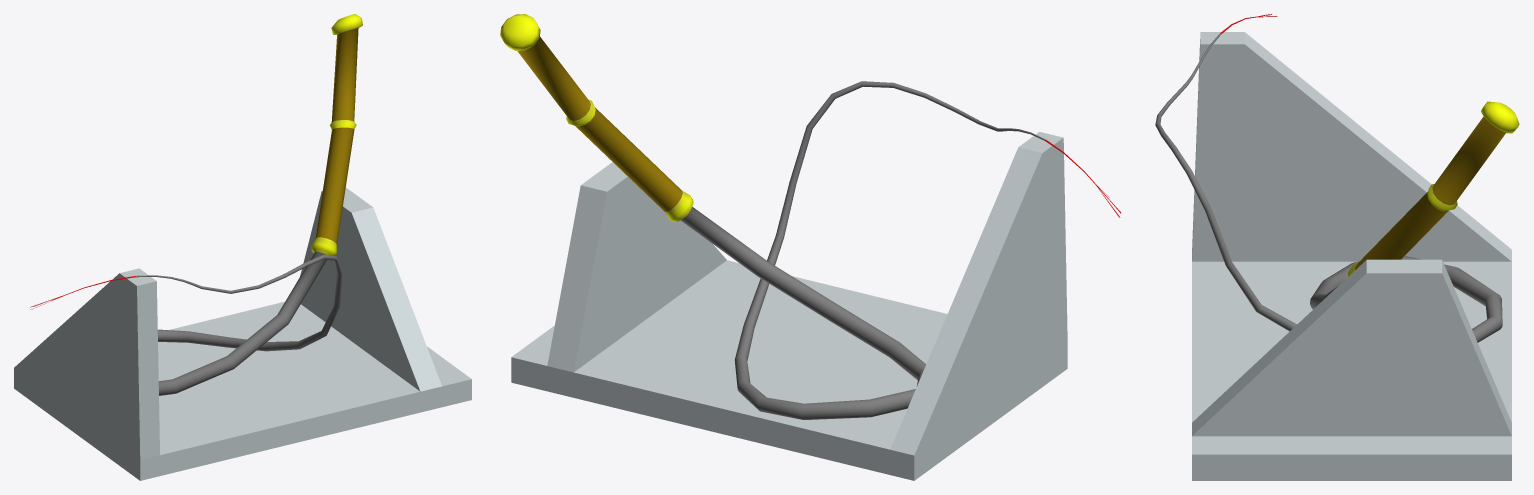
The model's file is Whip.fbx.
3 renders of one model, left to right at view 1: azimuth 30°, elevation 25°; view 2: azimuth 150°, elevation 25°; view 3: azimuth 270°, elevation 25°, orthographic. The views are drawn at different scales.
Visible parts, largest first — view 1: Stand, Whip; view 2: Stand, Whip; view 3: Stand, Whip.
Boxes of the visible parts, box(x1,y1,x2,y2) form: Stand: box(14, 187, 471, 480); Whip: box(30, 14, 362, 395); Stand: box(511, 131, 1067, 480); Whip: box(500, 14, 1120, 419); Stand: box(1192, 32, 1511, 480); Whip: box(1155, 14, 1519, 342).
Size of the model in its own units: 281 by 189 by 165.
Materials: 2 (1 with a texture image).
